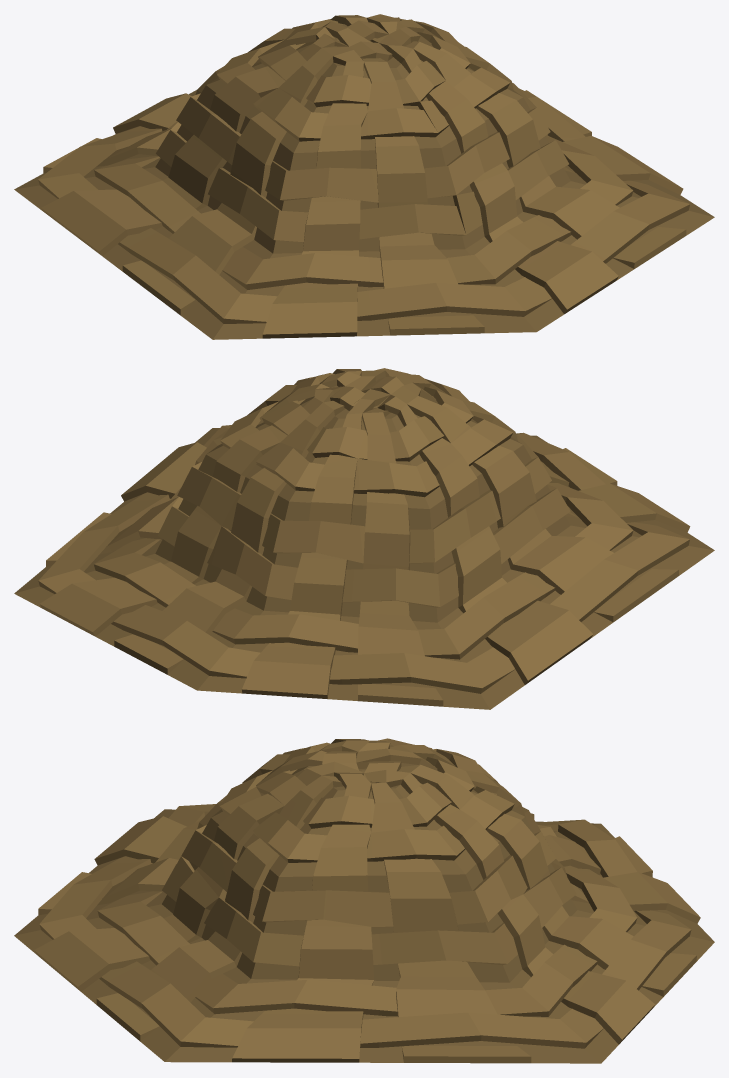
File: StrawHat.fbx
The picture shows the model from 3 angles, top to bottom: view 1: azimuth 30°, elevation 25°; view 2: azimuth 150°, elevation 25°; view 3: azimuth 270°, elevation 25°; orthographic projection. The views are drawn at different scales.
Visible parts, largest first — view 1: Hat; view 2: Hat; view 3: Hat.
Part boxes in pixels (left/top/right/bottom): Hat: left=14, top=14, right=714, bottom=339; Hat: left=14, top=368, right=714, bottom=709; Hat: left=14, top=738, right=714, bottom=1063.
Size of the model in its own units: 2.47 by 0.852 by 2.88.
